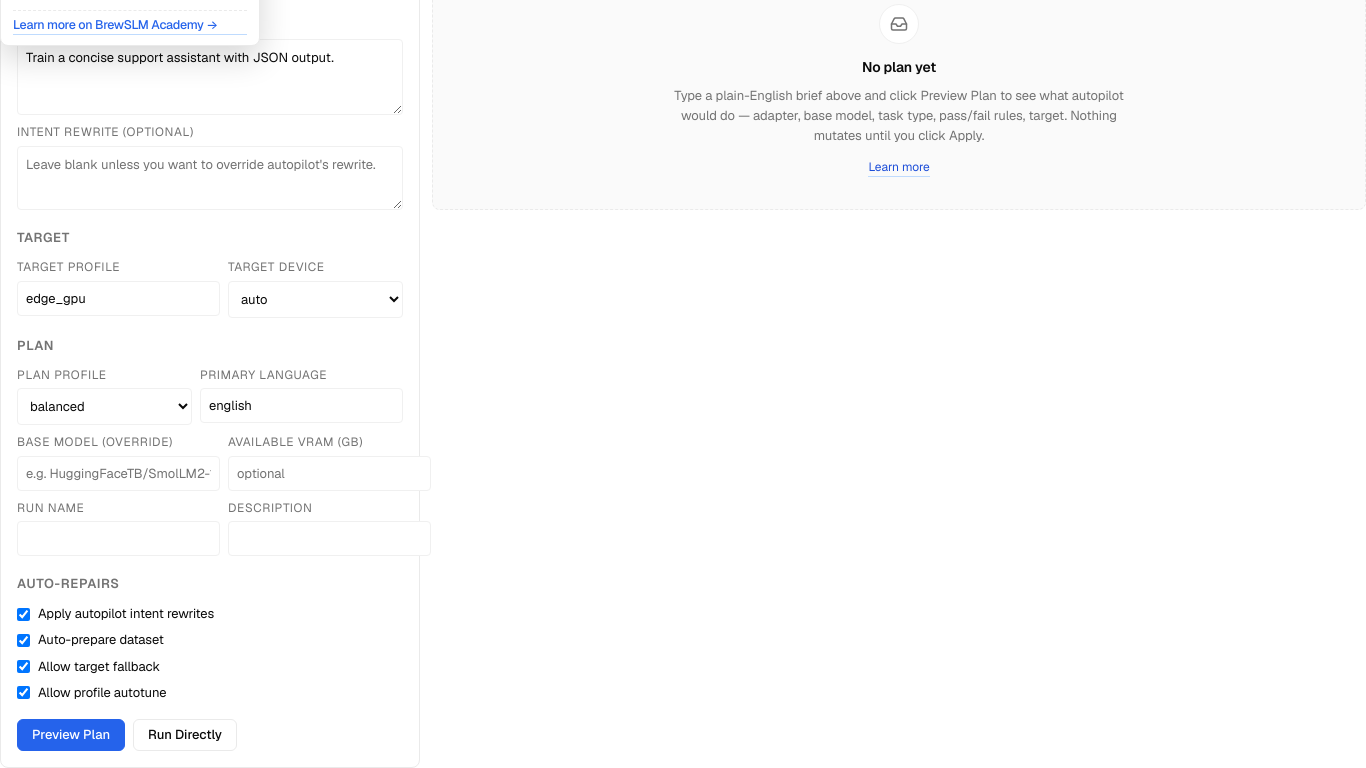
Test: ProjectAutopilotPage › posts to /autopilot/repair-preview and renders the plan + repairs
The image size is (1366, 768).
(page scrolled)
Step 1. Click the button "Preview Plan" → (71, 735), box [17,719,125,751]
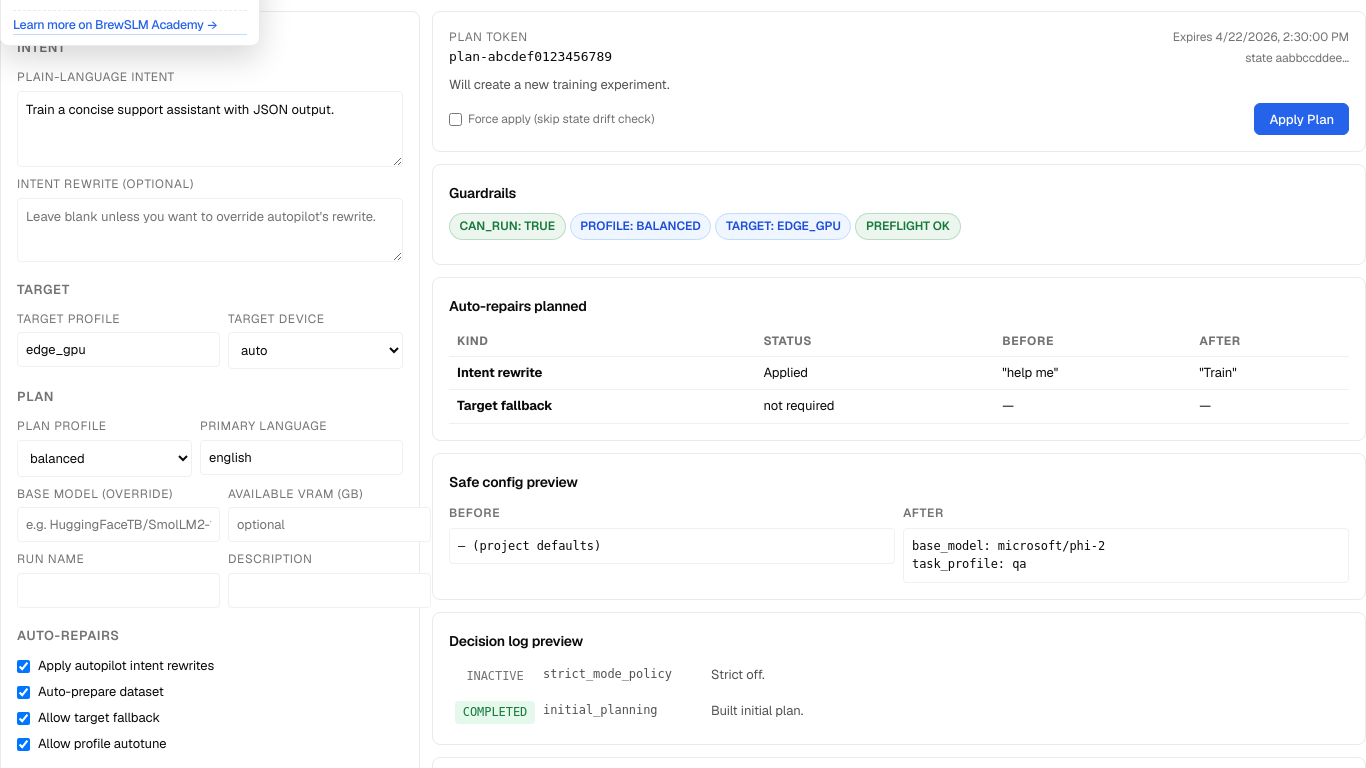
Now the text "plan-abcdef0123456789" is shown, box [449,47,612,67]
Now the text "Will create a new training experiment." is shown, box [449,76,670,93]
Now the button "Apply Plan" is enabled, box [1254,103,1349,135]
